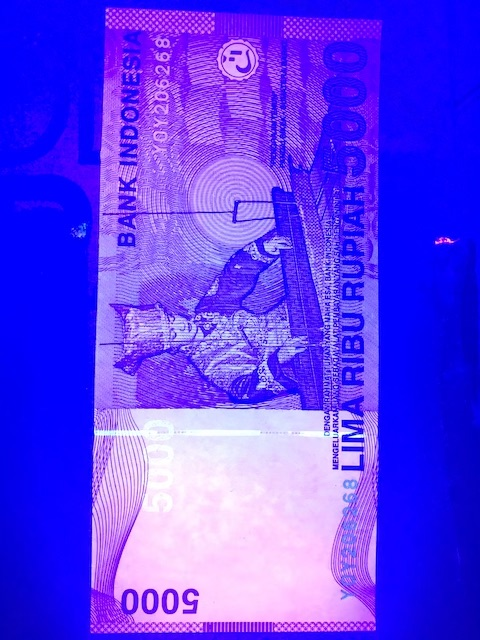5_RIBU_ASLI: (134, 419, 177, 515)
